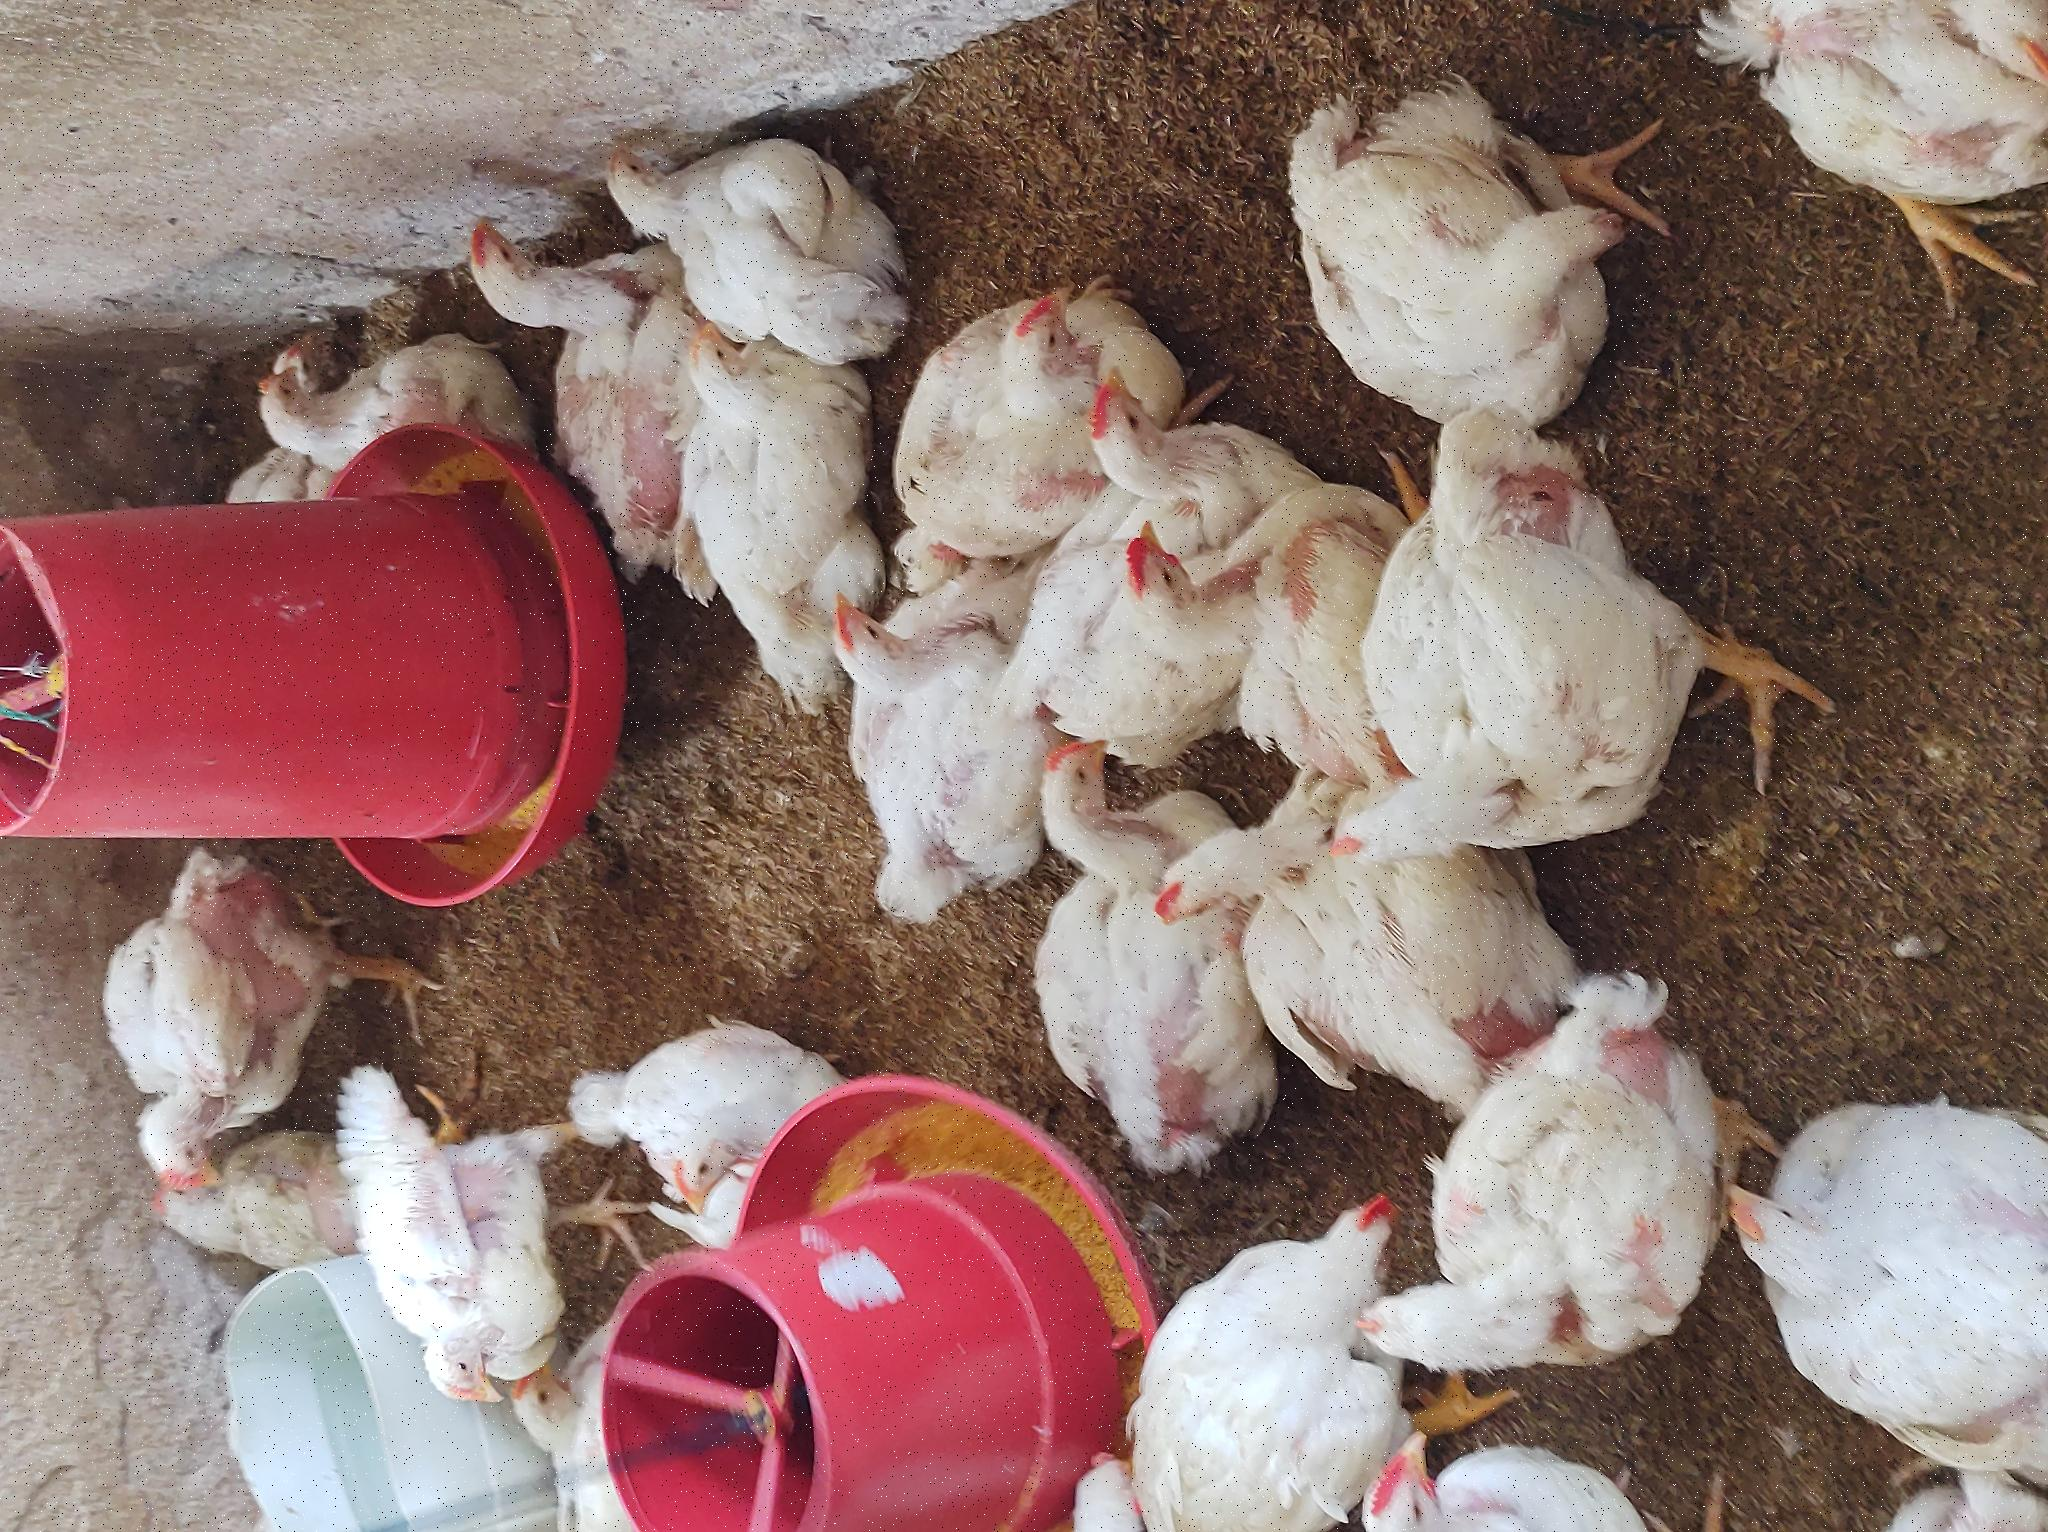Pollos: (592, 1321, 1126, 1532), (101, 1312, 565, 1532), (1129, 1294, 1490, 1532), (76, 335, 484, 531), (1199, 591, 1445, 912), (343, 106, 701, 322), (923, 652, 1219, 895), (309, 586, 557, 855), (607, 817, 928, 1003), (996, 864, 1244, 1093), (426, 1020, 803, 1168), (812, 1106, 1001, 1286), (196, 1254, 376, 1406), (2, 1353, 146, 1532), (570, 1143, 727, 1303), (1014, 1056, 1149, 1213), (1158, 446, 1327, 571), (275, 127, 359, 288), (58, 513, 179, 608), (1075, 249, 1154, 351), (1123, 266, 1216, 328)
